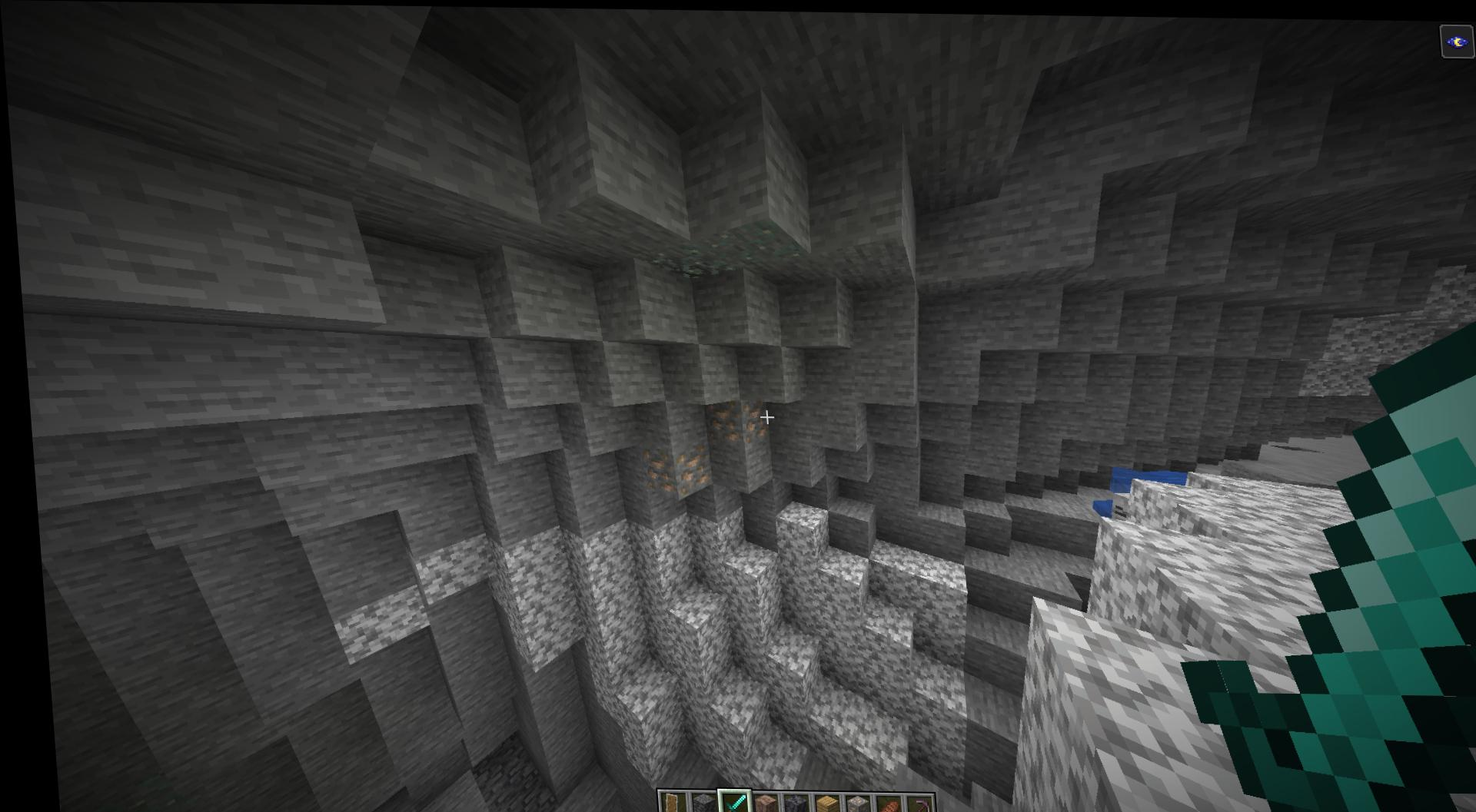iron ore: (637, 442, 707, 492), (701, 395, 763, 444)
